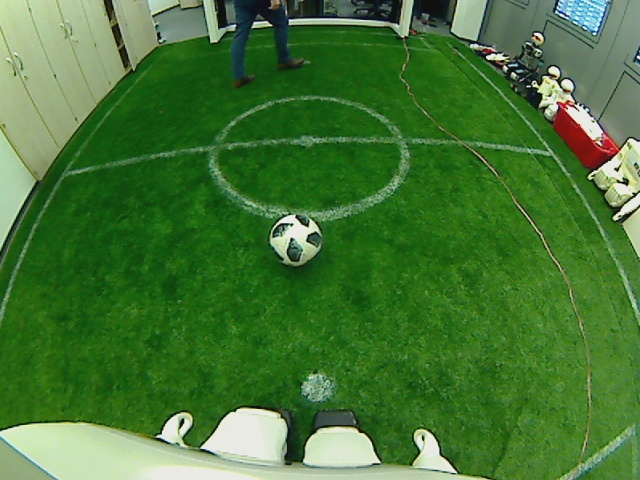ball: (267, 211, 324, 266)
